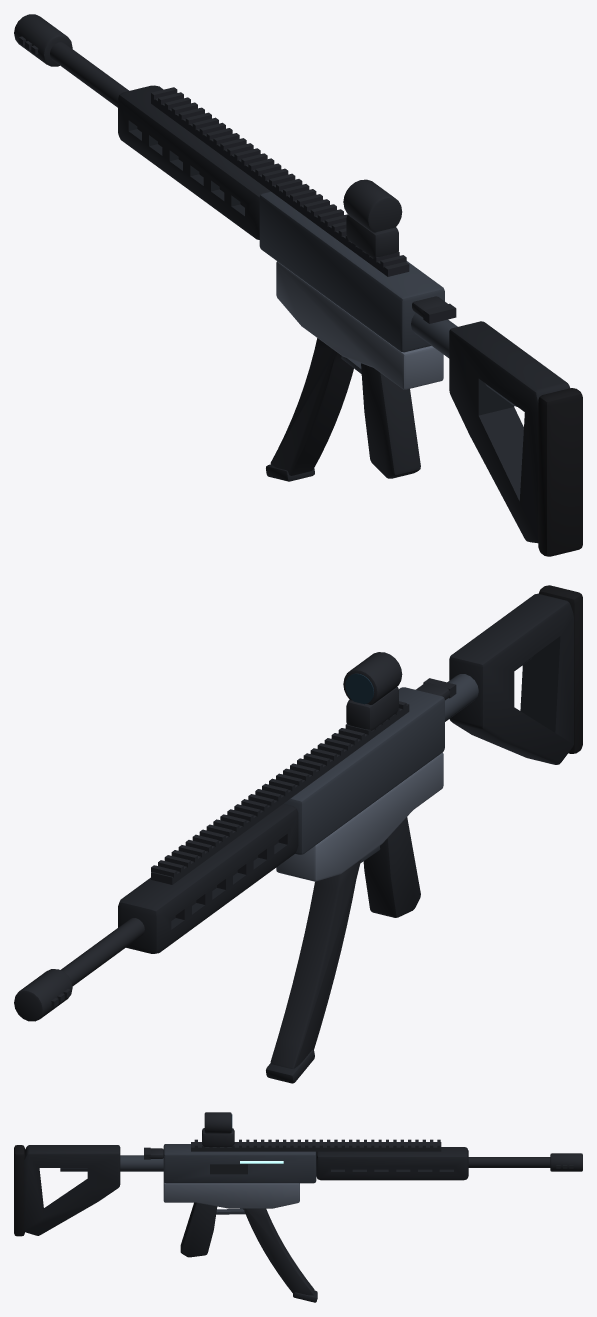
The model's file is arme_fusil.glb.
3 renders of one model, top to bottom at view 1: azimuth 30°, elevation 25°; view 2: azimuth 150°, elevation 25°; view 3: azimuth 270°, elevation 25°, orthographic. The views are drawn at different scales.
Parts seen in each view (by area): view 1: Fusil, Chargeur, Levier; view 2: Fusil, Chargeur; view 3: Fusil, Chargeur.
Boxes of the visible parts, x1,y1,x2,y2 form: Fusil: (14, 14, 582, 556); Chargeur: (266, 338, 353, 481); Levier: (412, 296, 456, 323); Fusil: (14, 585, 582, 1021); Chargeur: (266, 859, 361, 1083); Fusil: (14, 1112, 582, 1257); Chargeur: (243, 1208, 317, 1302).
Size of the model in its own units: 0.053 by 0.3778 by 1.05.
